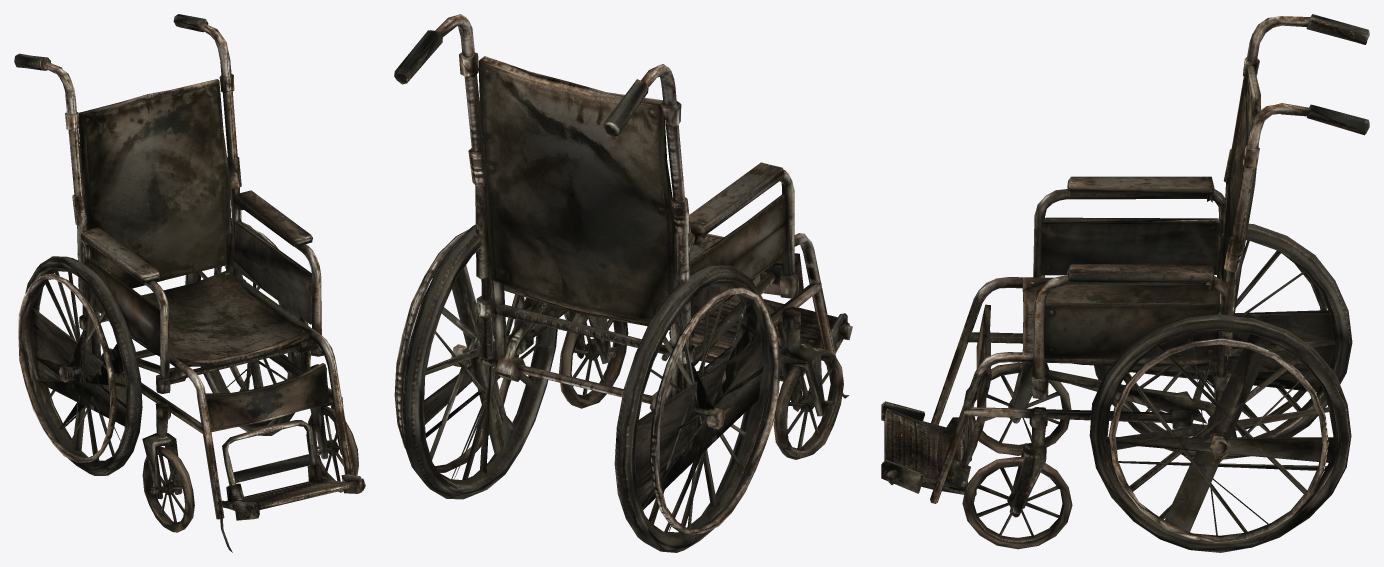
File: wheelchair.fbx
3 views of the same model, side by side, from view 1: azimuth 30°, elevation 25°; view 2: azimuth 150°, elevation 25°; view 3: azimuth 270°, elevation 25° (orthographic). The views are drawn at different scales.
Visible parts, largest first — view 1: wheelchair; view 2: wheelchair; view 3: wheelchair.
Part boxes in pixels (<box>): wheelchair: <box>14,14,365,552</box>; wheelchair: <box>394,14,852,552</box>; wheelchair: <box>881,14,1369,552</box>.
Bounding box in the file's own units: 209 × 374 × 374.
1 material, 1 textured.
